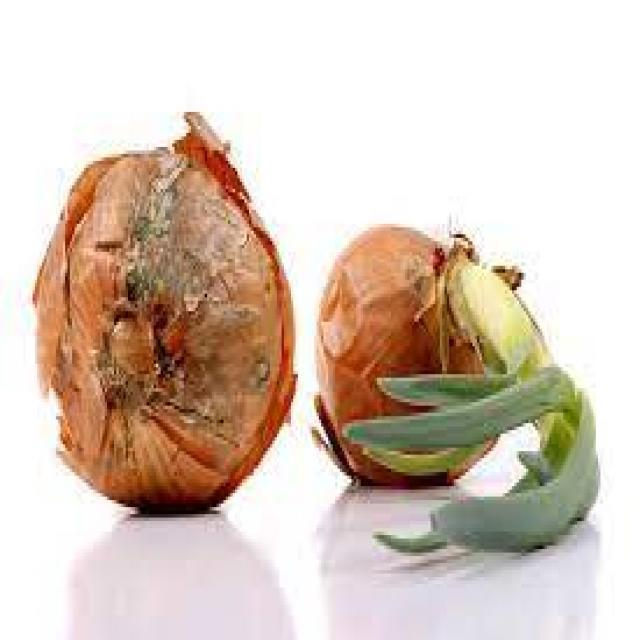Onion: (33, 109, 300, 511), (345, 248, 600, 553), (309, 224, 496, 491)
